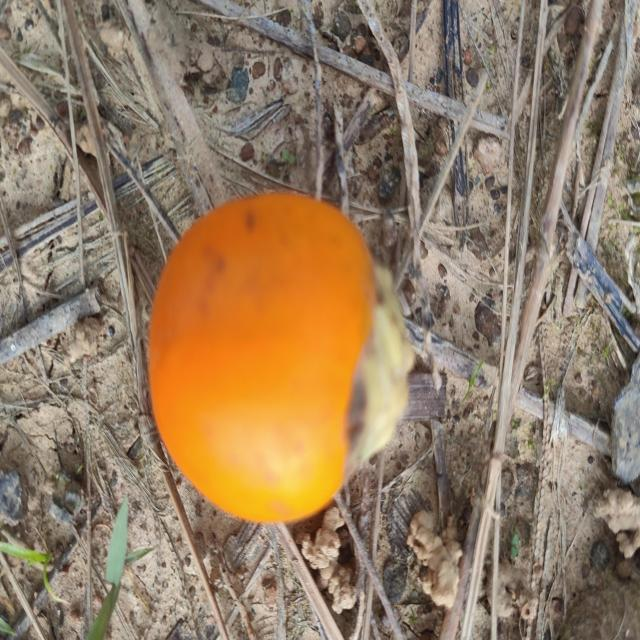good: (146, 191, 416, 526)
